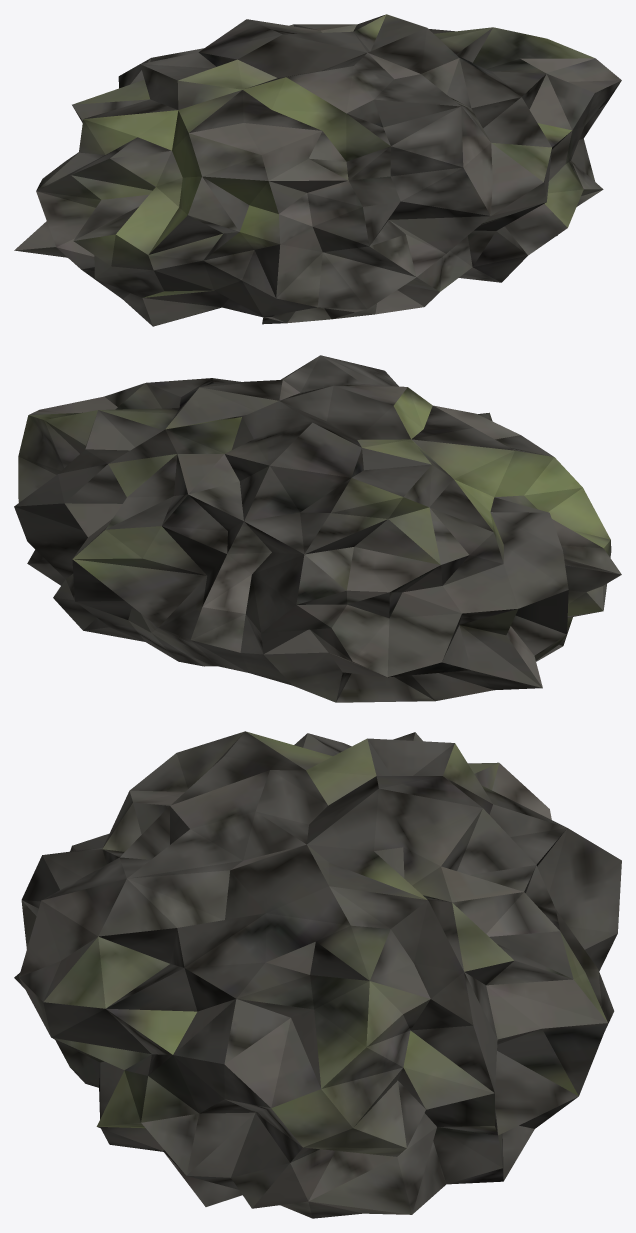
The model's file is rock4.fbx.
The picture shows the model from 3 angles, top to bottom: view 1: azimuth 30°, elevation 25°; view 2: azimuth 150°, elevation 25°; view 3: azimuth 270°, elevation 25°; orthographic projection. The views are drawn at different scales.
Parts seen in each view (by area): view 1: rock4; view 2: rock4; view 3: rock4.
Part boxes in pixels (left/top/right/bottom): rock4: left=14, top=14, right=621, bottom=326; rock4: left=14, top=355, right=621, bottom=702; rock4: left=14, top=731, right=621, bottom=1218.
Bounding box in the file's own units: 2.82 × 1.03 × 1.99.
Materials: 1 (1 with a texture image).
